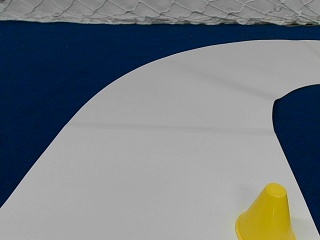cone: (234, 183, 292, 238)
